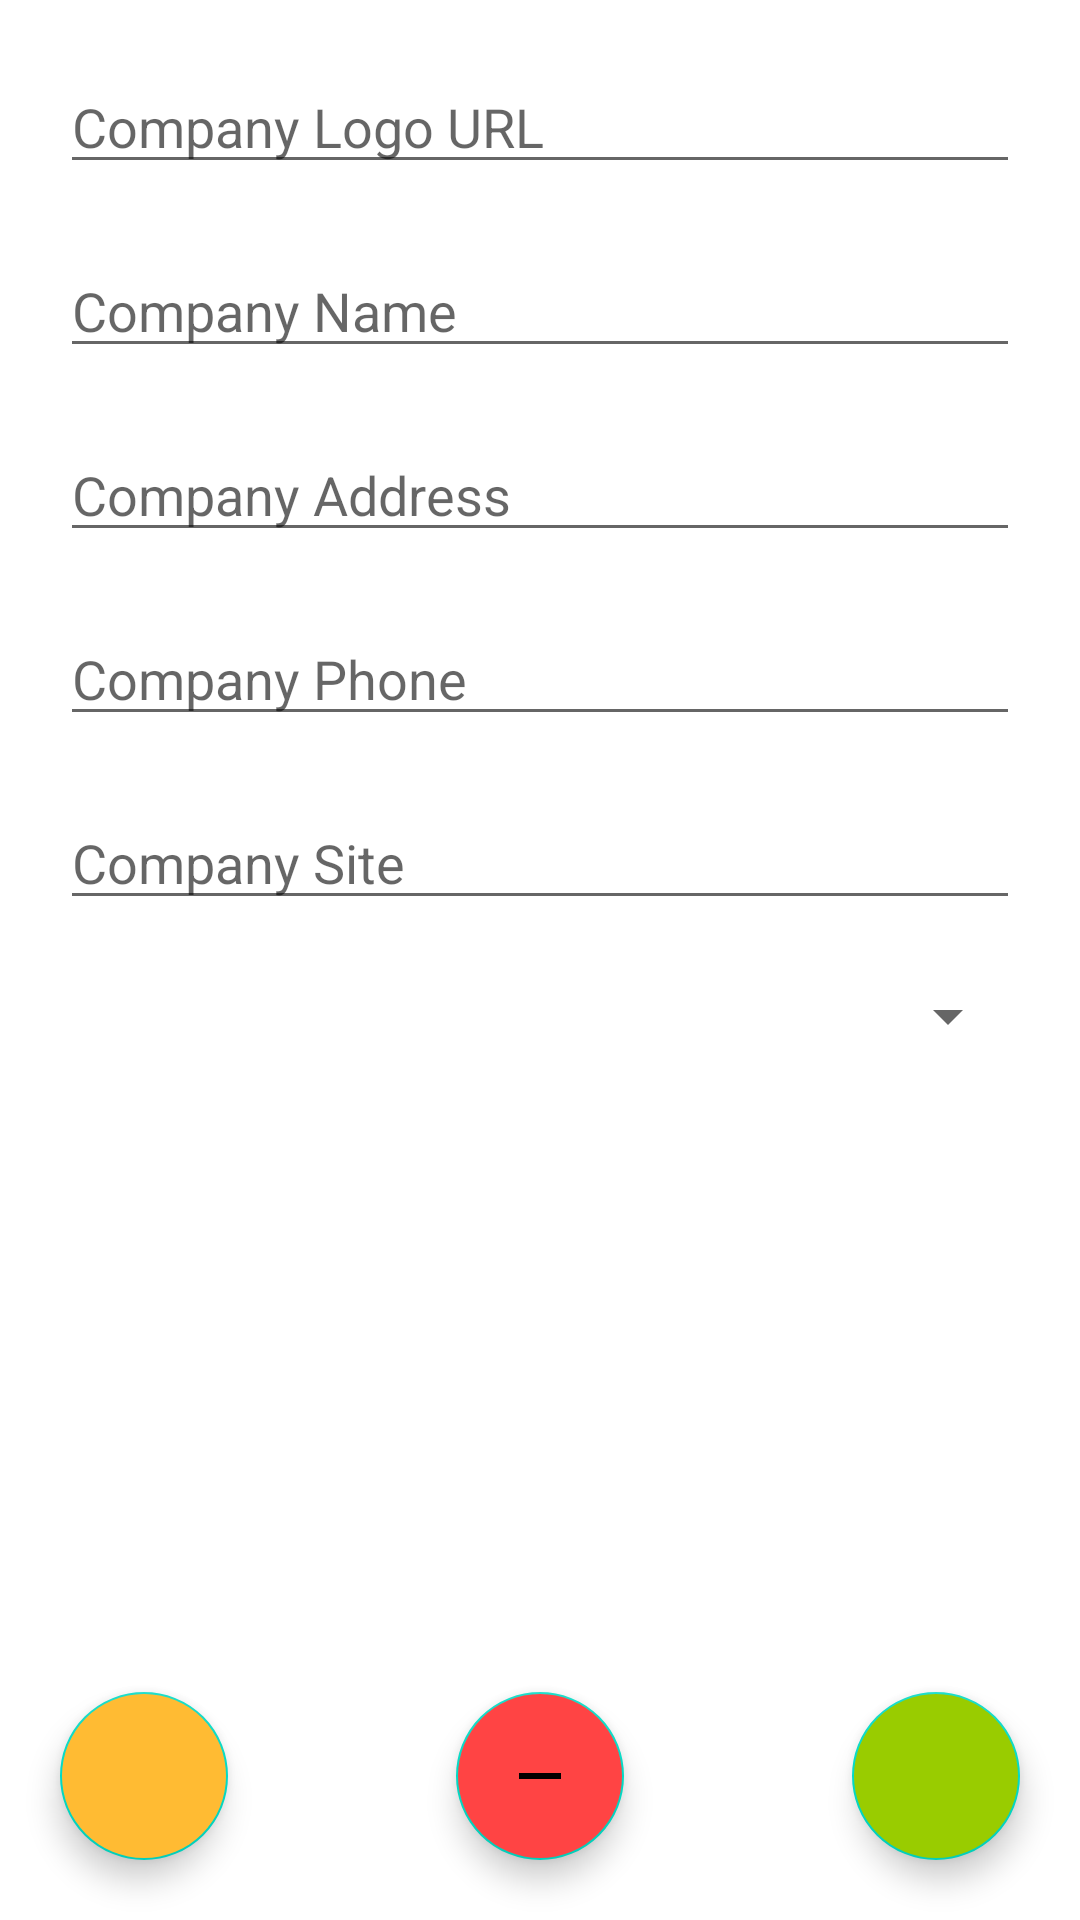

Icons on this 1080*1920 Android screen, each with its box as [left=x1, top=y1, right=x2, bottom=y2]:
remove: [left=456, top=1692, right=624, bottom=1860]
